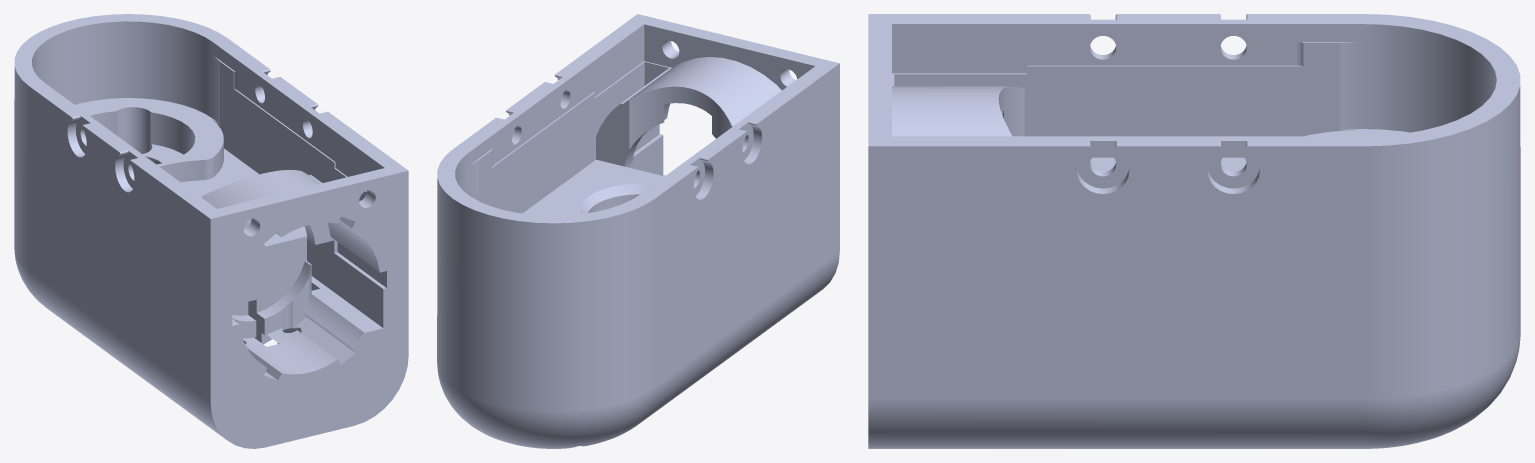
The model's file is codo.gltf.
The picture shows the model from 3 angles, left to right: view 1: azimuth 30°, elevation 25°; view 2: azimuth 150°, elevation 25°; view 3: azimuth 270°, elevation 25°; orthographic projection. The views are drawn at different scales.
Visible parts, largest first — view 1: codo; view 2: codo; view 3: codo.
Boxes of the visible parts, bbox=[...] form: codo: bbox=[14, 14, 408, 448]; codo: bbox=[437, 14, 839, 448]; codo: bbox=[868, 14, 1520, 448].
Bounding box in the file's own units: 0.036 × 0.042 × 0.075.
